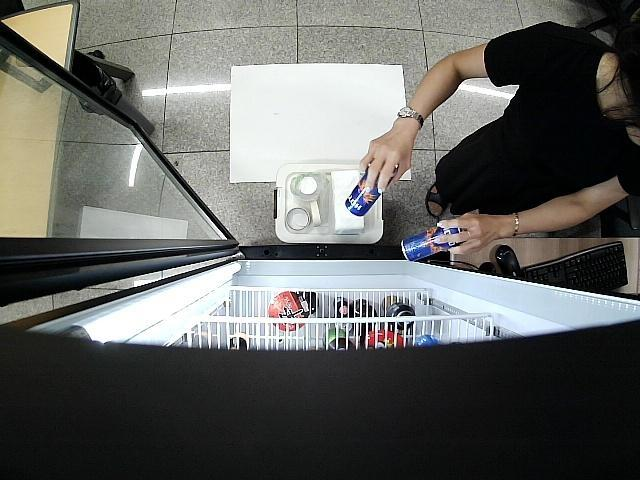16_hot6: (344, 167, 395, 220), (401, 226, 465, 263)
